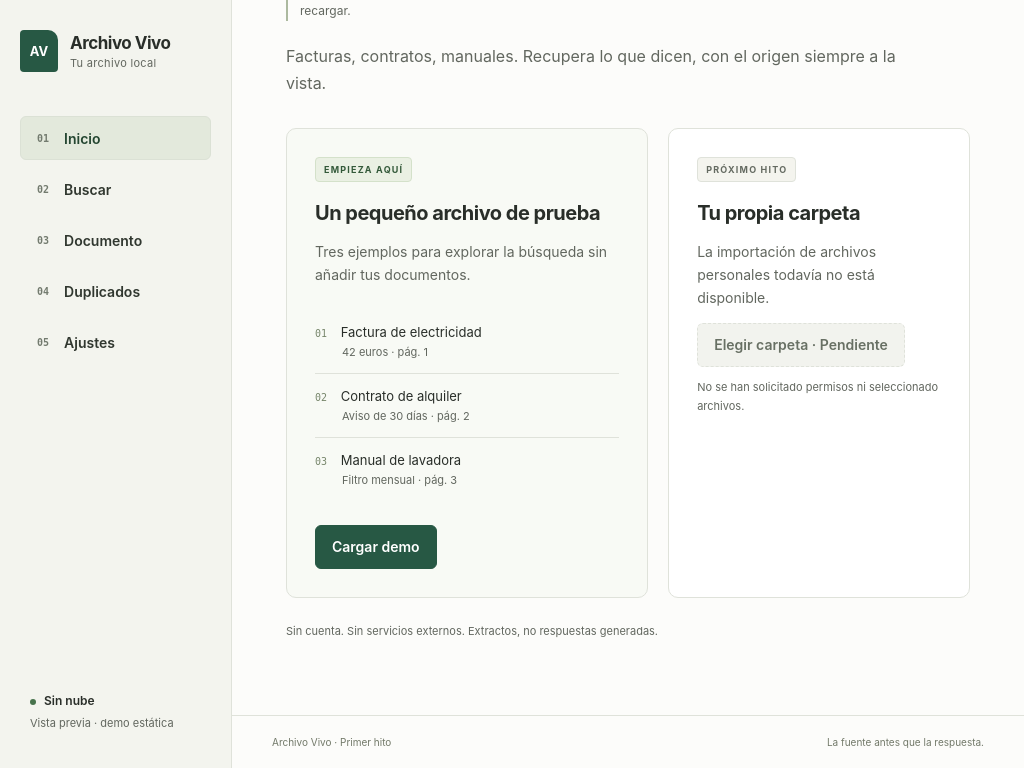
Test case: navega de onboarding a extractos citados y al documento
(page scrolled)
Check: the button "Elegir carpeta · Pendiente" is disabled, box [697, 323, 905, 367]
Click the button "Cargar demo" at coordinates (376, 547), box [315, 525, 437, 569]
(page scrolled)
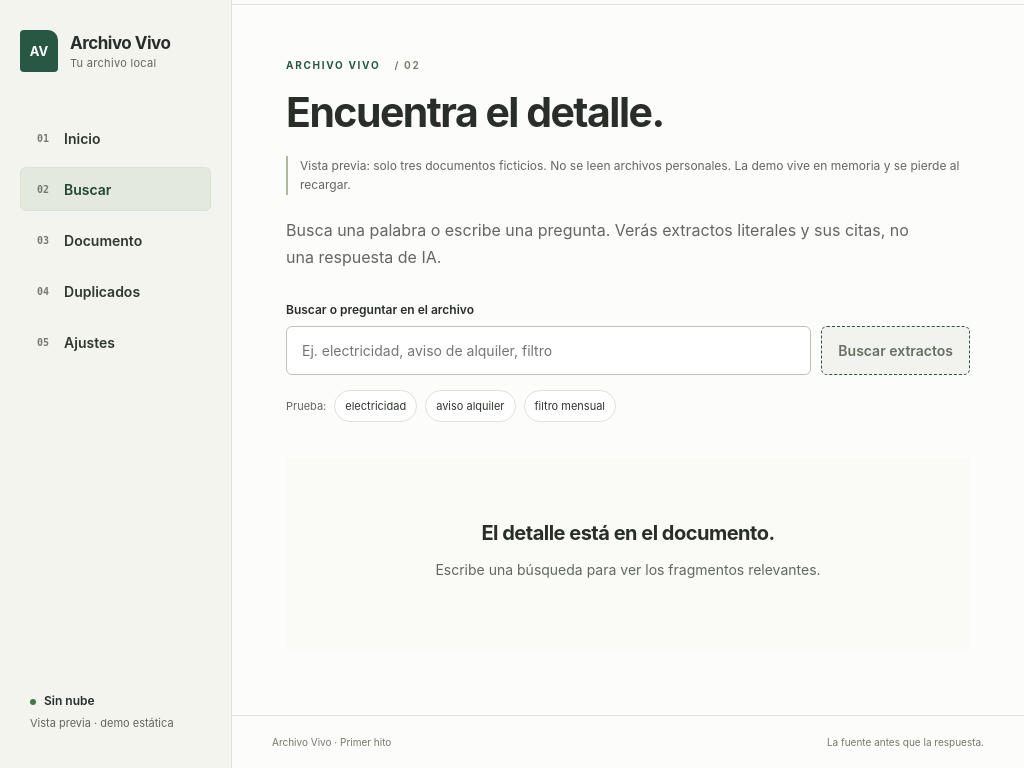
Check: the heading "Encuentra el detalle." is shown, box [286, 86, 664, 136]
Type "electricidad" into the field labelled "Buscar o preguntar en el archivo" at coordinates (549, 350), box [286, 326, 811, 375]
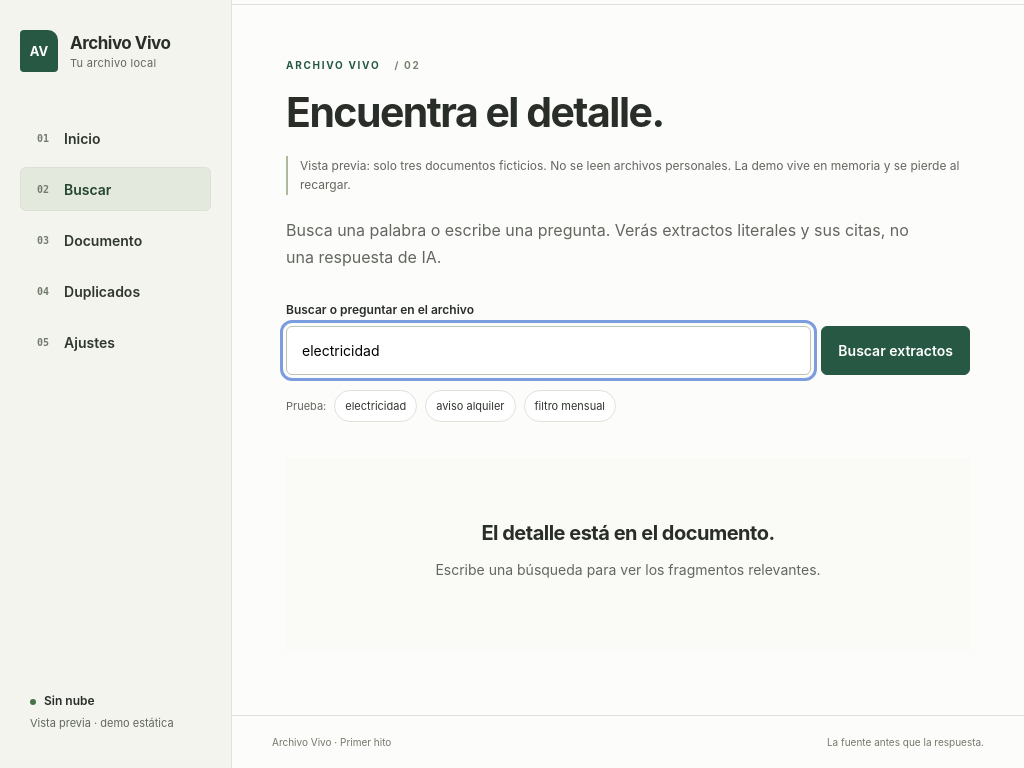
Click the button "Buscar extractos" at coordinates (896, 350), box [821, 326, 970, 375]
(page scrolled)
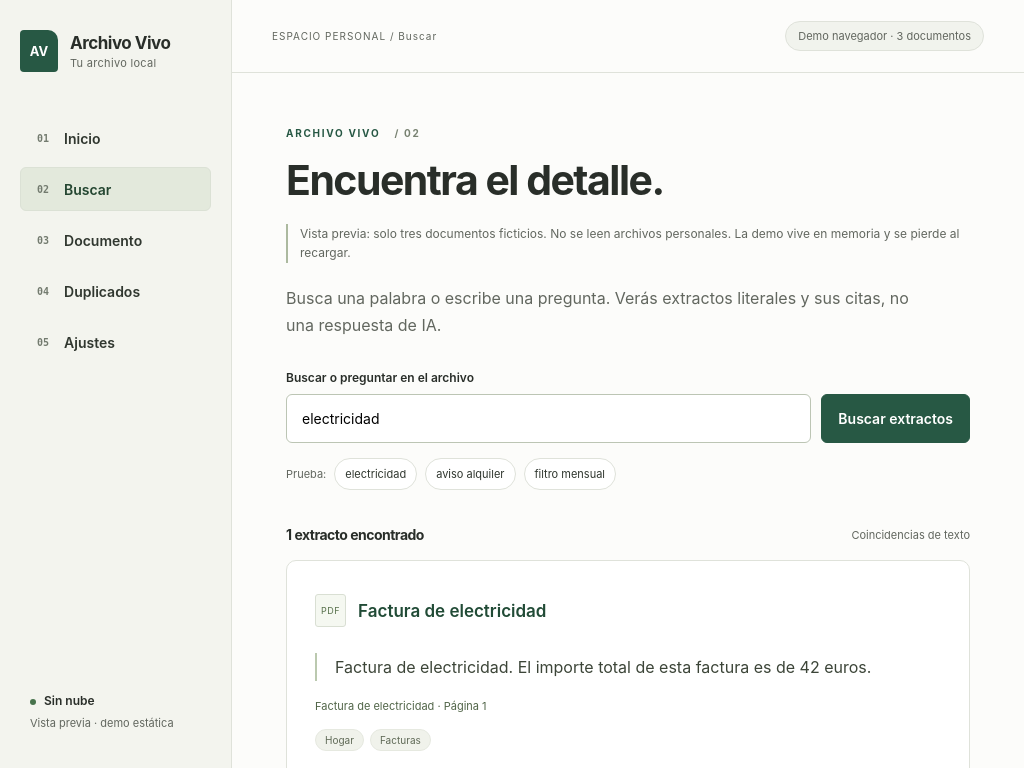
Click the button "Factura de electricidad" at coordinates (452, 611), box [358, 589, 546, 633]
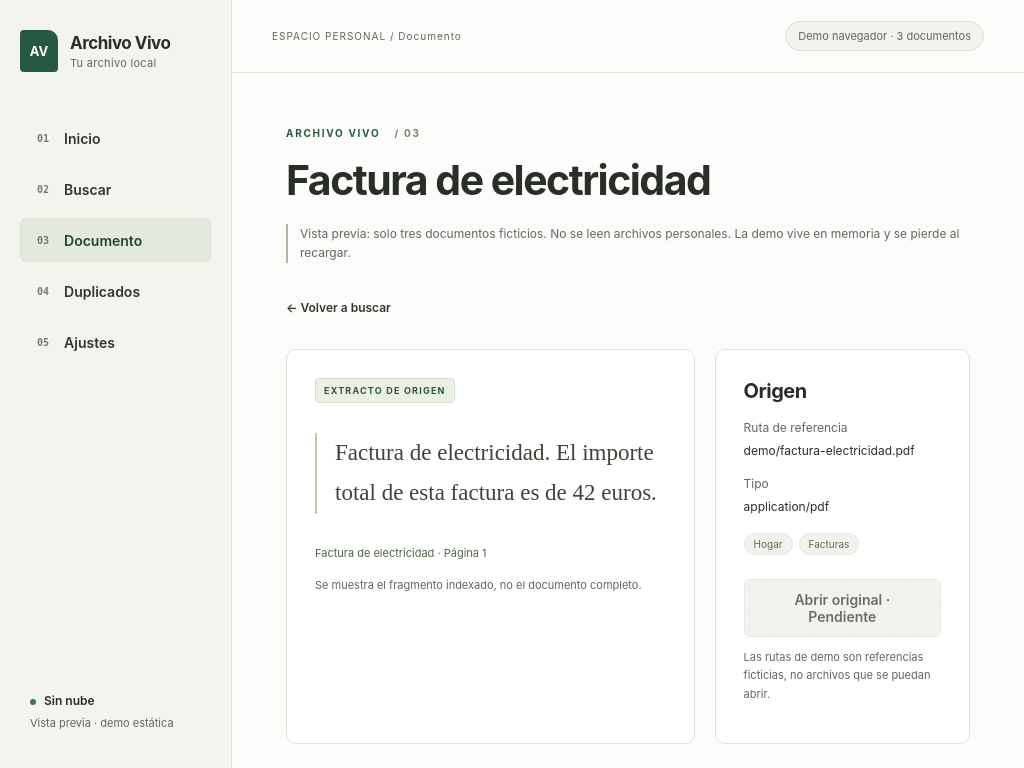
Check: the text "42 euros" is shown, box [335, 440, 657, 506]
Check: the text "Factura de electricidad · Página 1" is shown, box [315, 546, 486, 560]
Check: the heading "Factura de electricidad" is shown, box [286, 154, 710, 204]
